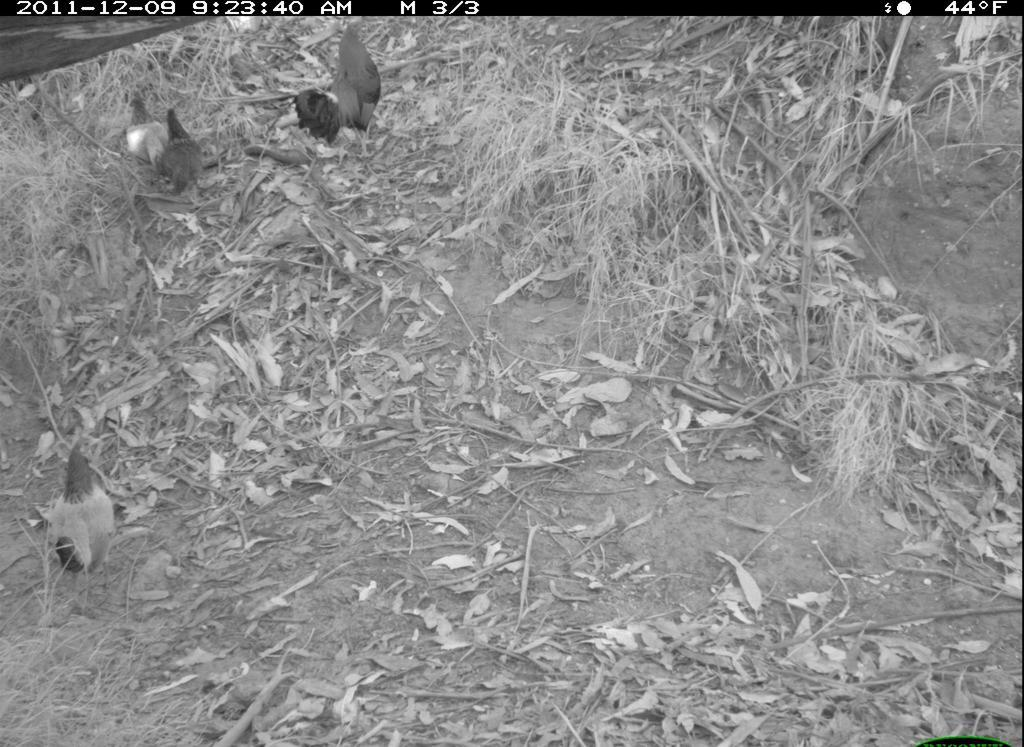bird: (295, 21, 392, 167), (39, 429, 129, 584), (155, 99, 212, 207), (123, 90, 173, 175)
